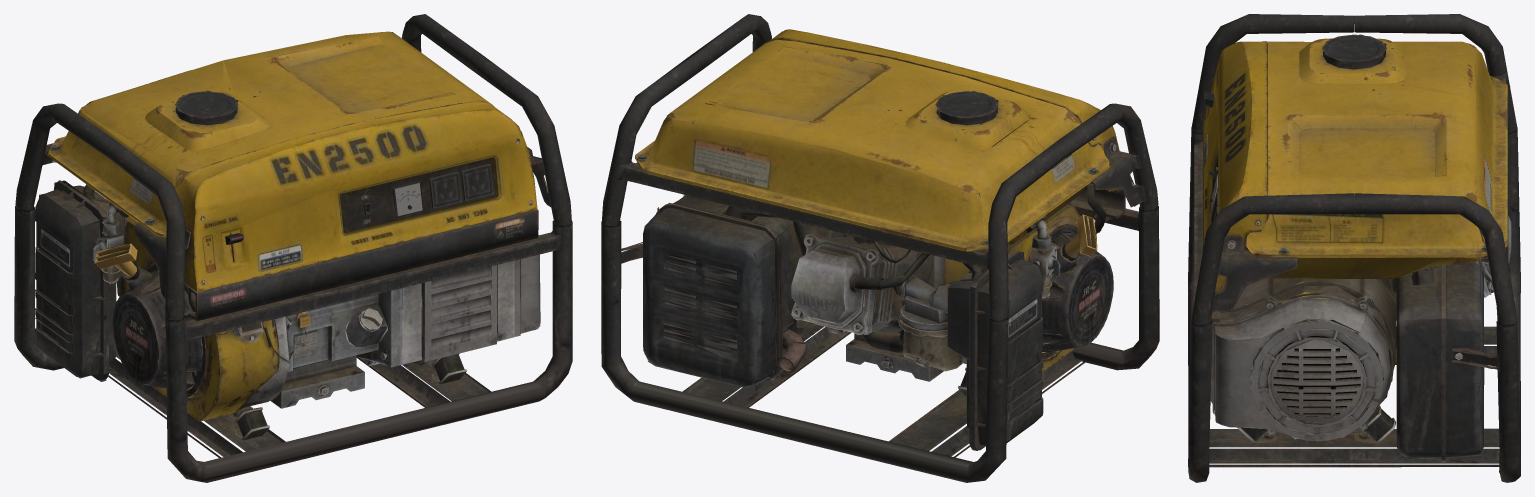
The model's file is gerador.glb.
3 views of the same model, side by side, from view 1: azimuth 30°, elevation 25°; view 2: azimuth 150°, elevation 25°; view 3: azimuth 270°, elevation 25° (orthographic).
Parts seen in each view (by area): view 1: gerador; view 2: gerador; view 3: gerador.
Part boxes in pixels (x1,y1,x2,y2): gerador: (14,14,572,482); gerador: (601,14,1159,482); gerador: (1188,14,1520,482).
Size of the model in its own units: 0.8179 by 0.5768 by 0.564.
2 materials, 2 textured.
